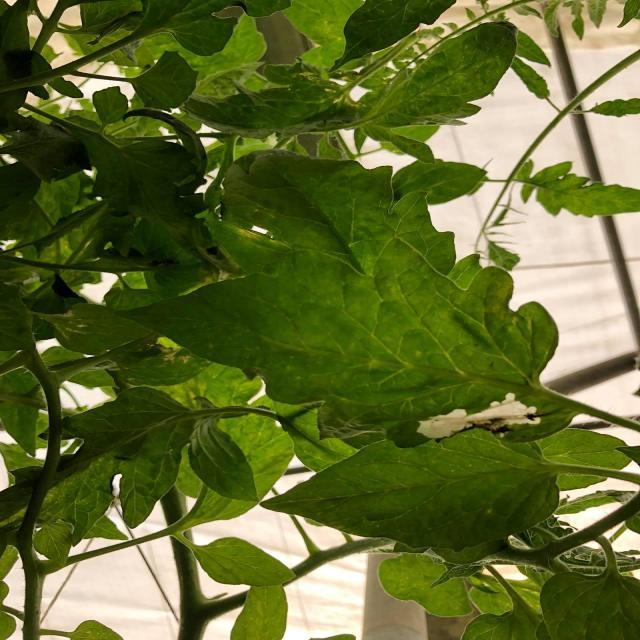Tuta absoluta: (414, 388, 541, 452)
